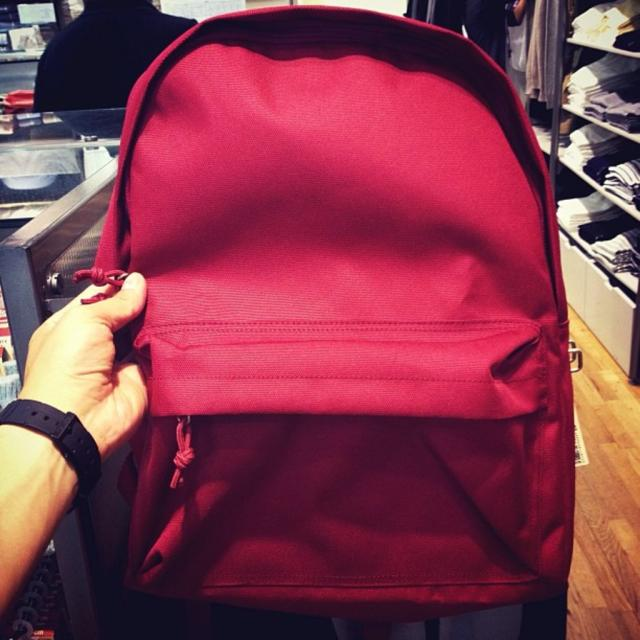backpack: (95, 4, 577, 613)
